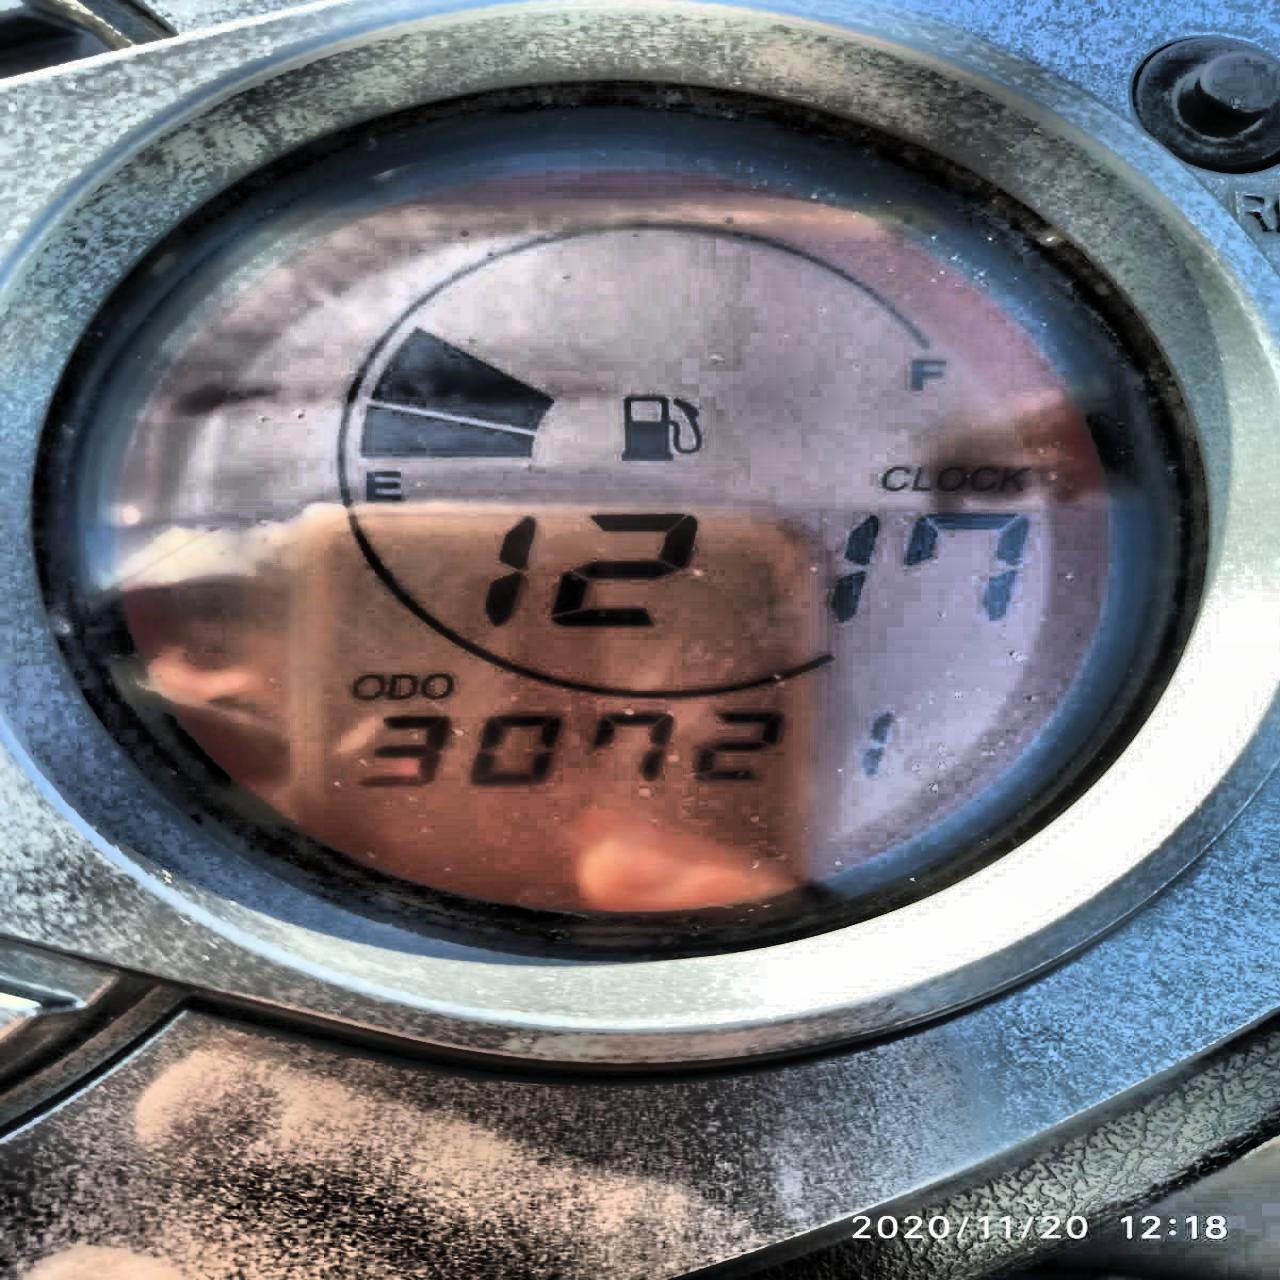0: (471, 713, 565, 785)
1: (826, 510, 888, 631), (476, 510, 538, 627), (856, 710, 895, 779)
2: (551, 508, 695, 634), (693, 709, 782, 782)
3: (359, 713, 451, 787)
7: (903, 507, 1041, 628), (589, 712, 676, 782)
X: (901, 352, 950, 396), (356, 465, 408, 506), (998, 462, 1032, 493), (419, 670, 453, 700), (934, 464, 969, 491), (386, 671, 418, 700), (352, 673, 386, 700), (879, 462, 908, 493), (968, 463, 998, 492), (908, 462, 934, 493)
odometer: (20, 68, 1214, 978)
